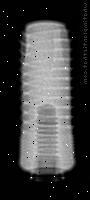Euroteknika: (17, 17, 77, 177)
